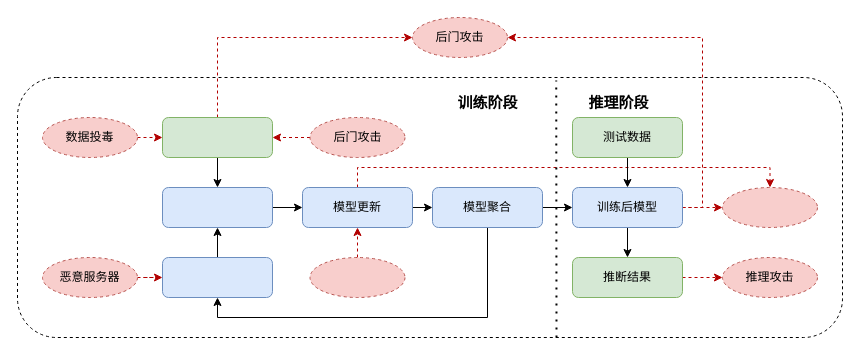
This 860x357 diagram has some shape labels left out. The shapes that lost their labels are listed below. From the top down, each one's centre as x and y in pixels, then its label:
At (x=217, y=137): "训练数据".
At (x=217, y=207): "本地模型训练".
At (x=770, y=207): "重构攻击".
At (x=217, y=277): "模型广播".
At (x=357, y=277): "模型投毒".
